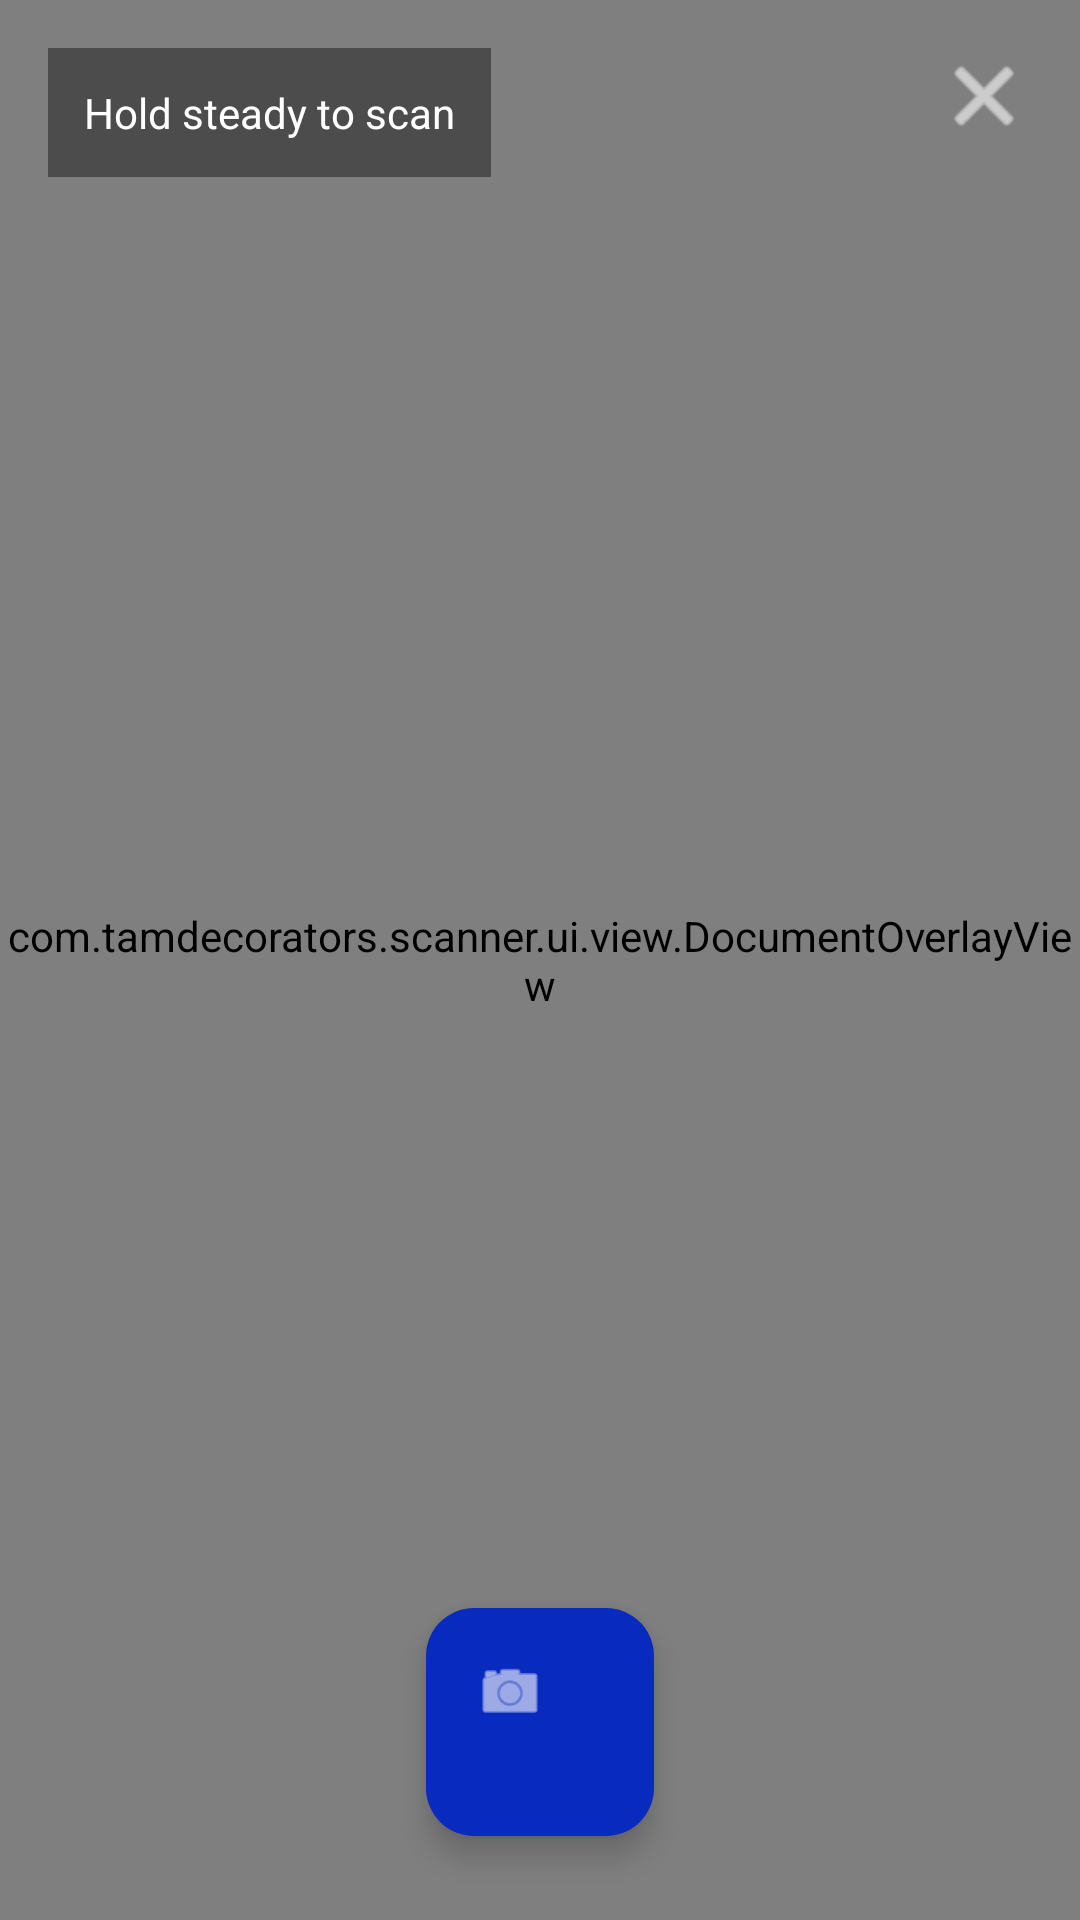

Point at icon controls on the screen. Image size 1080px x 1920px, points as (x=x, y=y).
Capture: (x=540, y=1722)
Close: (x=984, y=96)
